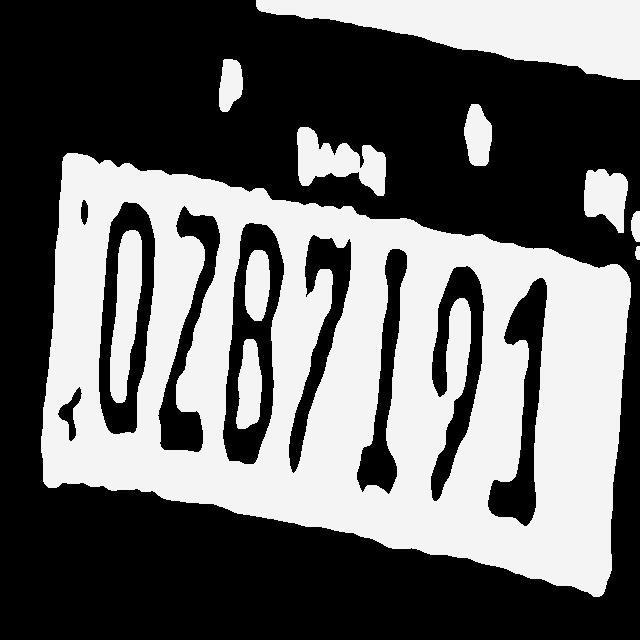1: (488, 273, 554, 530)
7: (288, 228, 352, 482)
9: (421, 262, 488, 512)
b: (222, 219, 286, 468)
i: (353, 243, 413, 500)
q: (94, 199, 160, 442)
z: (156, 200, 222, 456)
